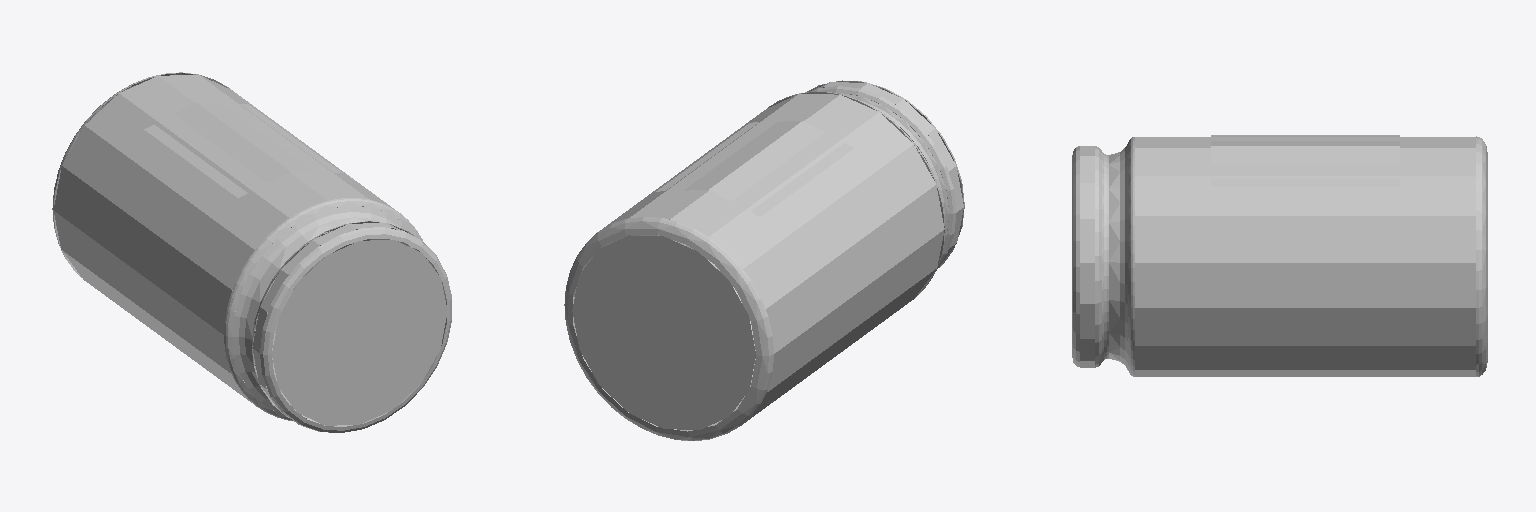
3 views of the same model, side by side, from view 1: azimuth 30°, elevation 25°; view 2: azimuth 150°, elevation 25°; view 3: azimuth 270°, elevation 25° (orthographic).
Visible parts, largest first — view 1: ShapeIndexedFaceSet_ShapeIndexedFaceSet.001, ShapeIndexedFaceSet.004_ShapeIndexedFaceSet.005, ShapeIndexedFaceSet.003_ShapeIndexedFaceSet.004, ShapeIndexedFaceSet.005_ShapeIndexedFaceSet, ShapeIndexedFaceSet.001_ShapeIndexedFaceSet.002; view 2: ShapeIndexedFaceSet_ShapeIndexedFaceSet.001, ShapeIndexedFaceSet.002_ShapeIndexedFaceSet.003, ShapeIndexedFaceSet.001_ShapeIndexedFaceSet.002, ShapeIndexedFaceSet.005_ShapeIndexedFaceSet, ShapeIndexedFaceSet.003_ShapeIndexedFaceSet.004; view 3: ShapeIndexedFaceSet_ShapeIndexedFaceSet.001, ShapeIndexedFaceSet.003_ShapeIndexedFaceSet.004, ShapeIndexedFaceSet.005_ShapeIndexedFaceSet, ShapeIndexedFaceSet.001_ShapeIndexedFaceSet.002.
Boxes of the visible parts, x1=… form: ShapeIndexedFaceSet_ShapeIndexedFaceSet.001: x1=54, y1=75, x2=409, y2=410; ShapeIndexedFaceSet.004_ShapeIndexedFaceSet.005: x1=272, y1=240, x2=447, y2=425; ShapeIndexedFaceSet.003_ShapeIndexedFaceSet.004: x1=224, y1=198, x2=451, y2=432; ShapeIndexedFaceSet.005_ShapeIndexedFaceSet: x1=144, y1=102, x2=341, y2=197; ShapeIndexedFaceSet.001_ShapeIndexedFaceSet.002: x1=52, y1=72, x2=229, y2=277; ShapeIndexedFaceSet_ShapeIndexedFaceSet.001: x1=573, y1=93, x2=944, y2=431; ShapeIndexedFaceSet.002_ShapeIndexedFaceSet.003: x1=572, y1=235, x2=755, y2=429; ShapeIndexedFaceSet.001_ShapeIndexedFaceSet.002: x1=564, y1=217, x2=773, y2=440; ShapeIndexedFaceSet.005_ShapeIndexedFaceSet: x1=656, y1=121, x2=853, y2=216; ShapeIndexedFaceSet.003_ShapeIndexedFaceSet.004: x1=768, y1=80, x2=964, y2=297; ShapeIndexedFaceSet_ShapeIndexedFaceSet.001: x1=1135, y1=137, x2=1475, y2=376; ShapeIndexedFaceSet.003_ShapeIndexedFaceSet.004: x1=1072, y1=137, x2=1134, y2=376; ShapeIndexedFaceSet.005_ShapeIndexedFaceSet: x1=1211, y1=135, x2=1399, y2=185; ShapeIndexedFaceSet.001_ShapeIndexedFaceSet.002: x1=1476, y1=136, x2=1487, y2=376.
Size of the model in its own units: 4.06 by 4.1 by 7.